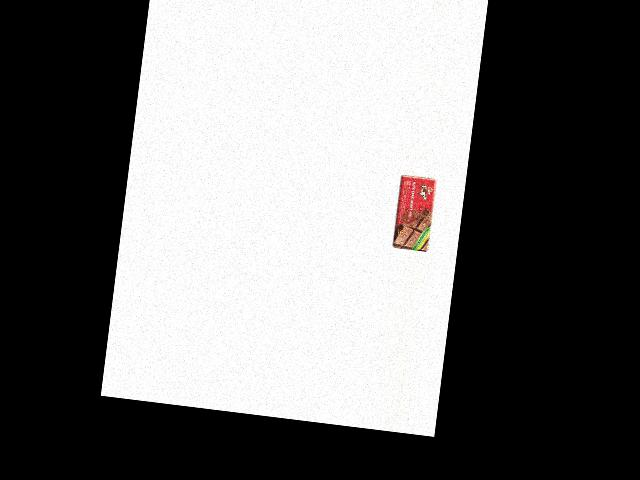chocolate: (390, 172, 437, 252)
